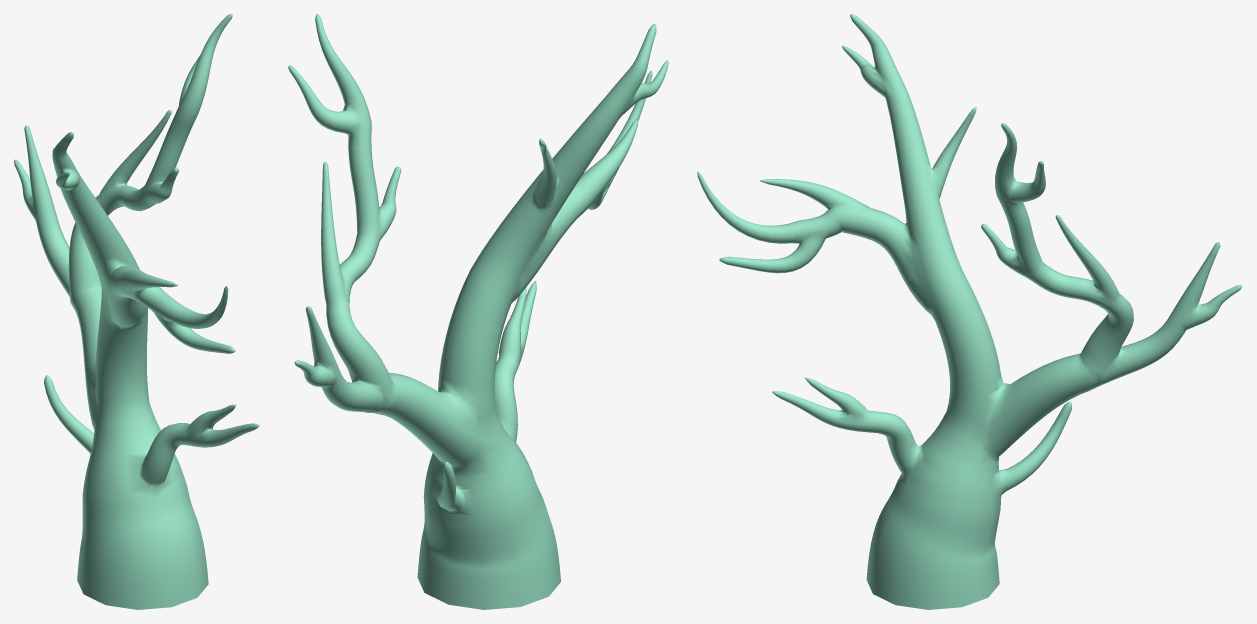
File: GhostTree.fbx
The picture shows the model from 3 angles, left to right: view 1: azimuth 30°, elevation 25°; view 2: azimuth 150°, elevation 25°; view 3: azimuth 270°, elevation 25°; orthographic projection. The views are drawn at different scales.
Visible parts, largest first — view 1: Treebackup; view 2: Treebackup; view 3: Treebackup.
Part boxes in pixels (x1,y1,x2,y2): Treebackup: [14, 14, 259, 609]; Treebackup: [288, 14, 668, 609]; Treebackup: [697, 14, 1242, 609].
Bounding box in the file's own units: 465 × 904 × 860.
